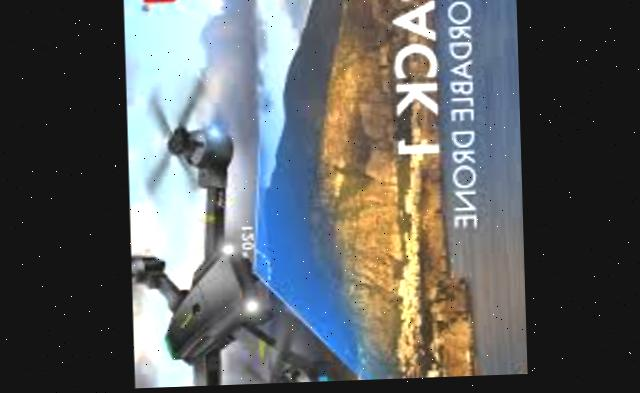drone: (126, 86, 350, 389)
